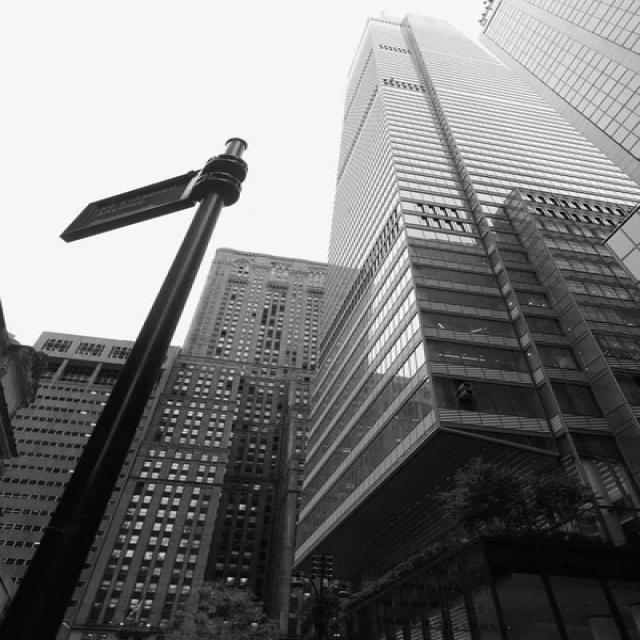Pole: (2, 137, 246, 640)
